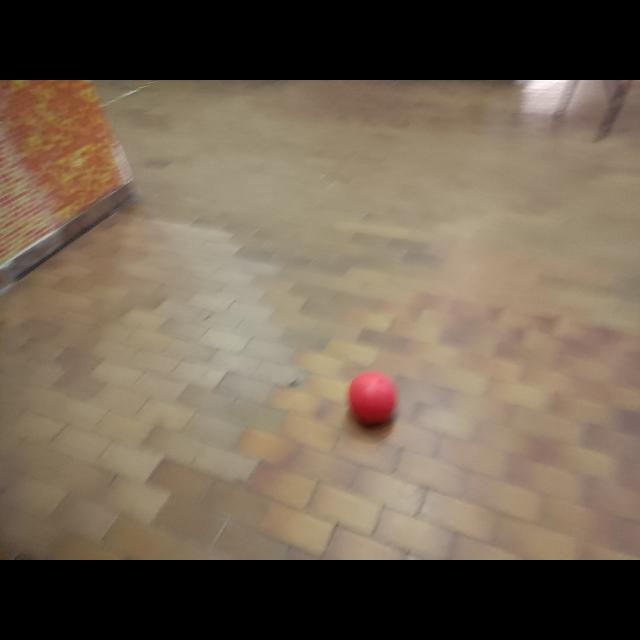R: (348, 371, 396, 423)
